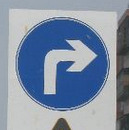right_turn: (15, 16, 110, 111)
